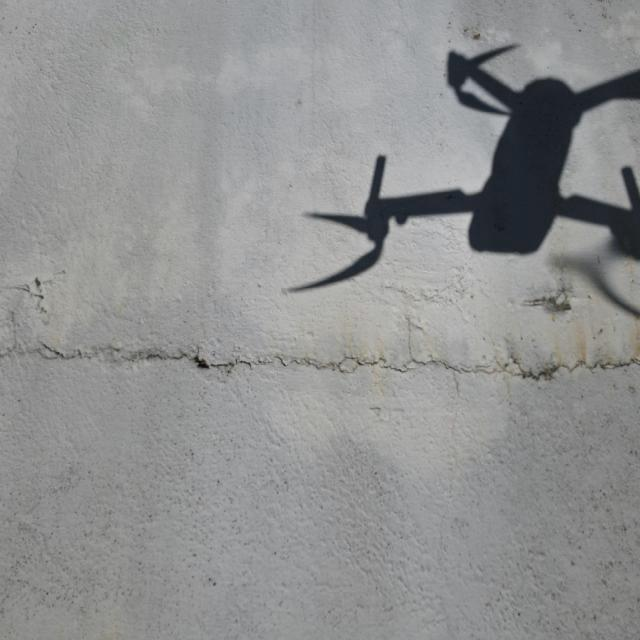SurfaceCrack: (0, 248, 639, 415), (270, 27, 596, 332)
